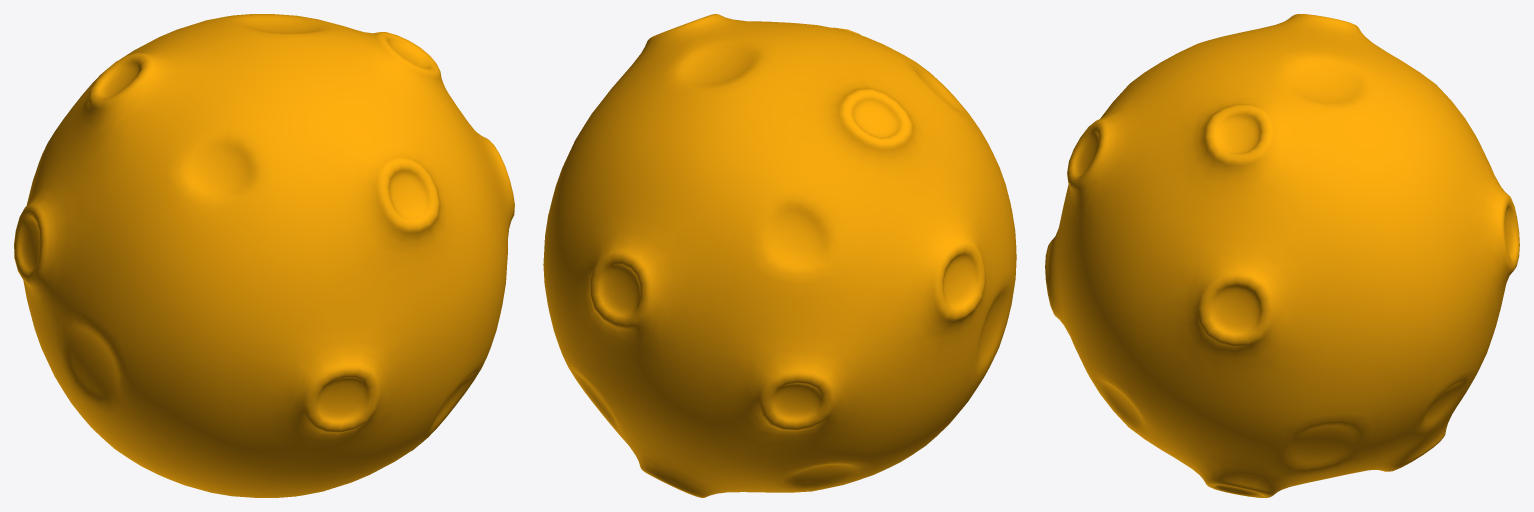
Rendered from Public_17_Meteor_2.glb.
3 renders of one model, left to right at view 1: azimuth 30°, elevation 25°; view 2: azimuth 150°, elevation 25°; view 3: azimuth 270°, elevation 25°, orthographic. The views are drawn at different scales.
Visible parts, largest first — view 1: Public_17_Meteor_2; view 2: Public_17_Meteor_2; view 3: Public_17_Meteor_2.
Boxes of the visible parts, left/top/right/bottom form: Public_17_Meteor_2: left=14, top=14, right=514, bottom=497; Public_17_Meteor_2: left=543, top=14, right=1016, bottom=497; Public_17_Meteor_2: left=1045, top=14, right=1519, bottom=497.
Bounding box in the file's own units: 6.52 × 6.17 × 6.52.
Materials: 1 (1 with a texture image).
